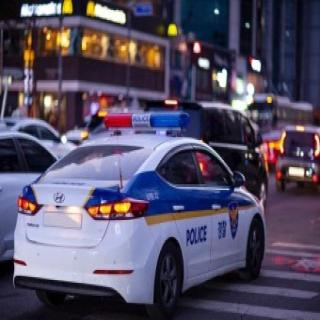Police_car: (13, 108, 267, 320)
